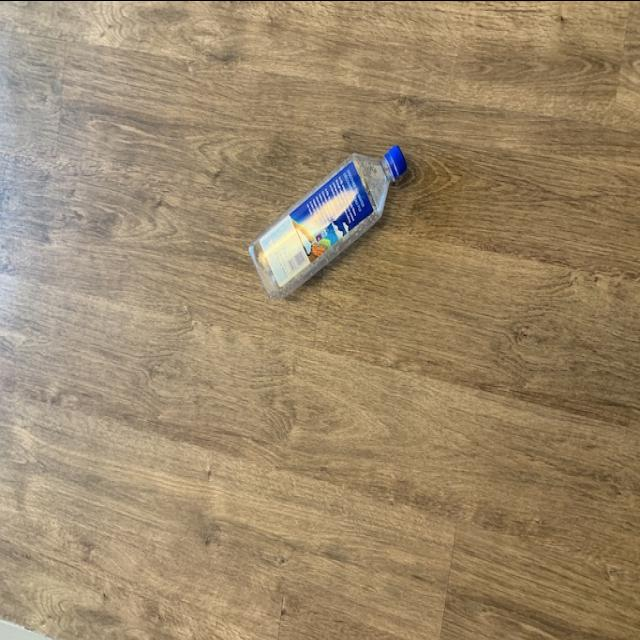PET: (247, 142, 408, 294)
